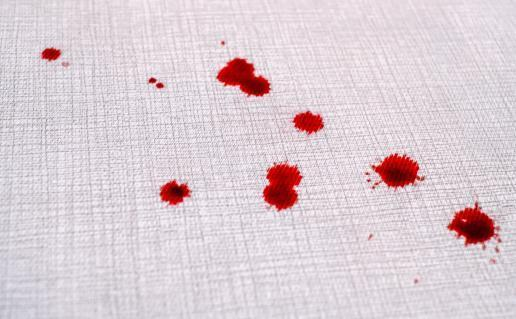Bloodstain-Detection: (218, 55, 272, 95), (265, 161, 303, 213), (445, 208, 495, 245), (371, 152, 421, 188), (294, 111, 326, 135), (162, 180, 189, 207), (42, 48, 61, 59)
